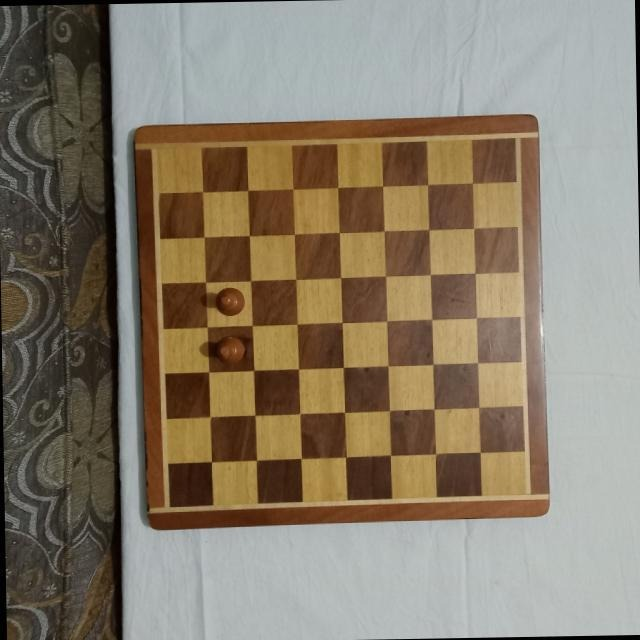white-pawn: (212, 286, 244, 317), (212, 333, 245, 363)
